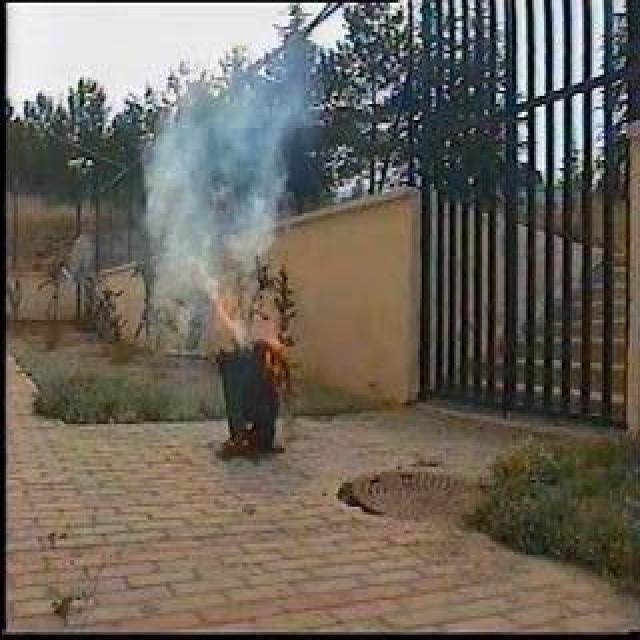Fire: (259, 327, 283, 372)
Smoke: (143, 103, 297, 265)
